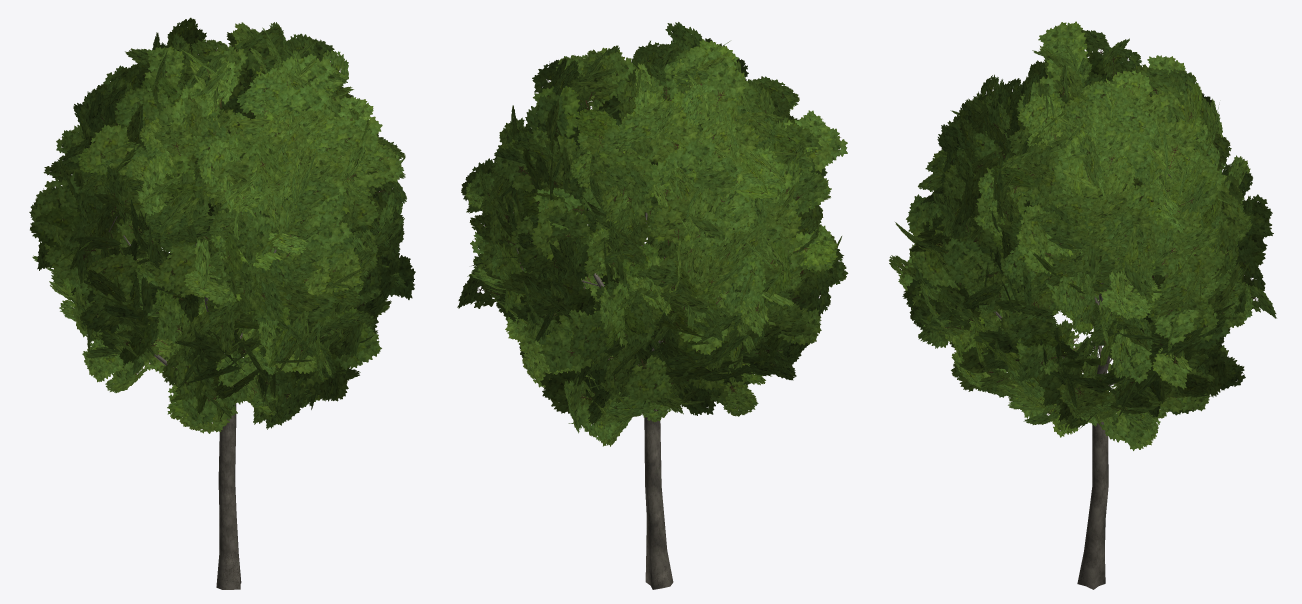
The model's file is arbre_feuillu_jeune_lod0.glb.
The picture shows the model from 3 angles, left to right: view 1: azimuth 30°, elevation 25°; view 2: azimuth 150°, elevation 25°; view 3: azimuth 270°, elevation 25°; orthographic projection. The views are drawn at different scales.
Visible parts, largest first — view 1: arbre_feuillu_jeune_lod0; view 2: arbre_feuillu_jeune_lod0; view 3: arbre_feuillu_jeune_lod0.
Boxes of the visible parts, x1=… form: arbre_feuillu_jeune_lod0: x1=29, y1=17, x2=415, y2=589; arbre_feuillu_jeune_lod0: x1=457, y1=22, x2=848, y2=589; arbre_feuillu_jeune_lod0: x1=889, y1=21, x2=1276, y2=589.
Bounding box in the file's own units: 4.32 × 6.27 × 4.24.
Materials: 2 (2 with a texture image).
